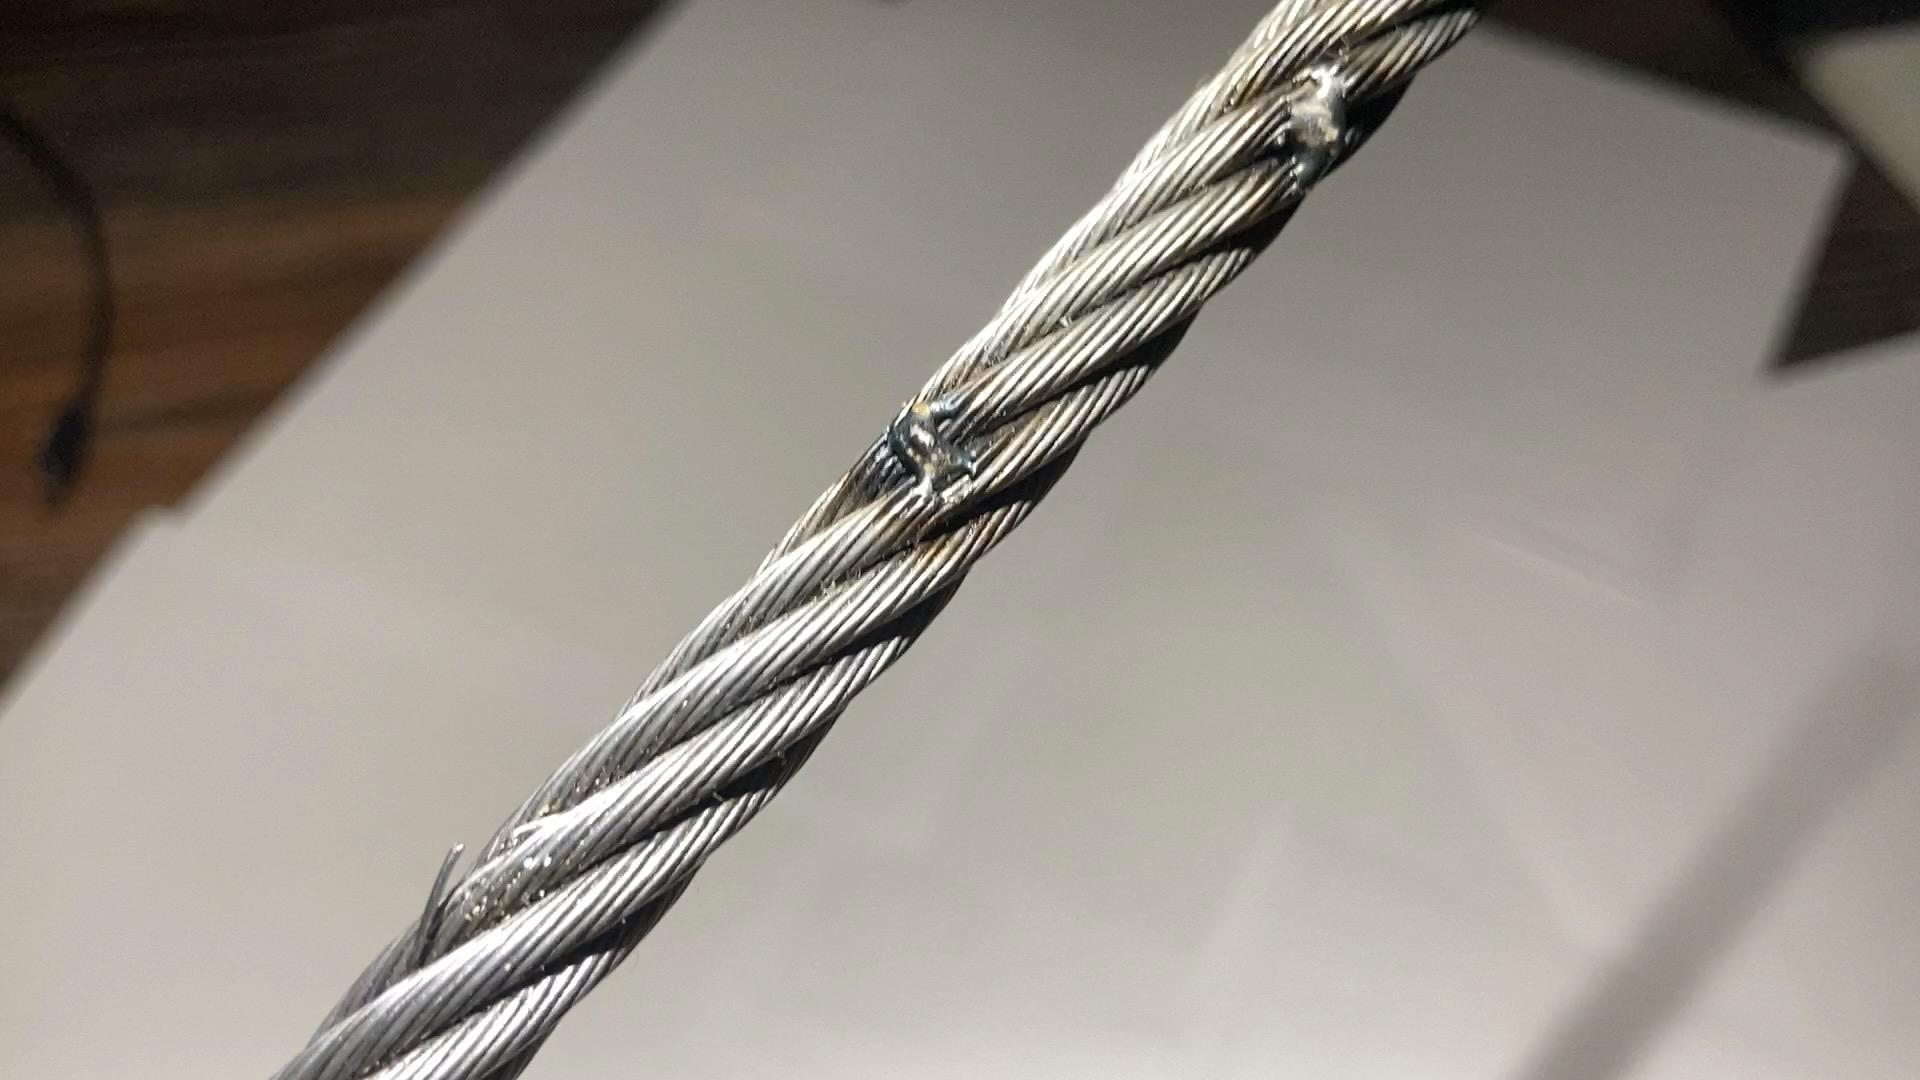break: (392, 827, 495, 944)
thunderbolt: (876, 397, 994, 497), (1271, 59, 1383, 164)
